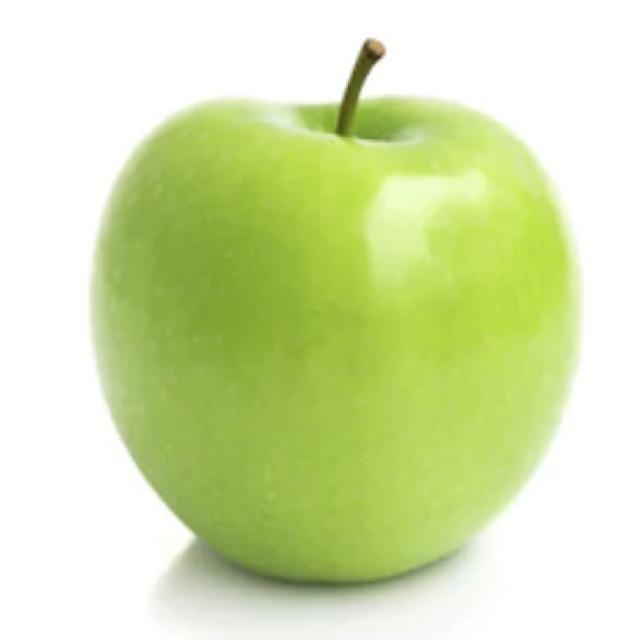Fresh Apple: (118, 93, 562, 570)
